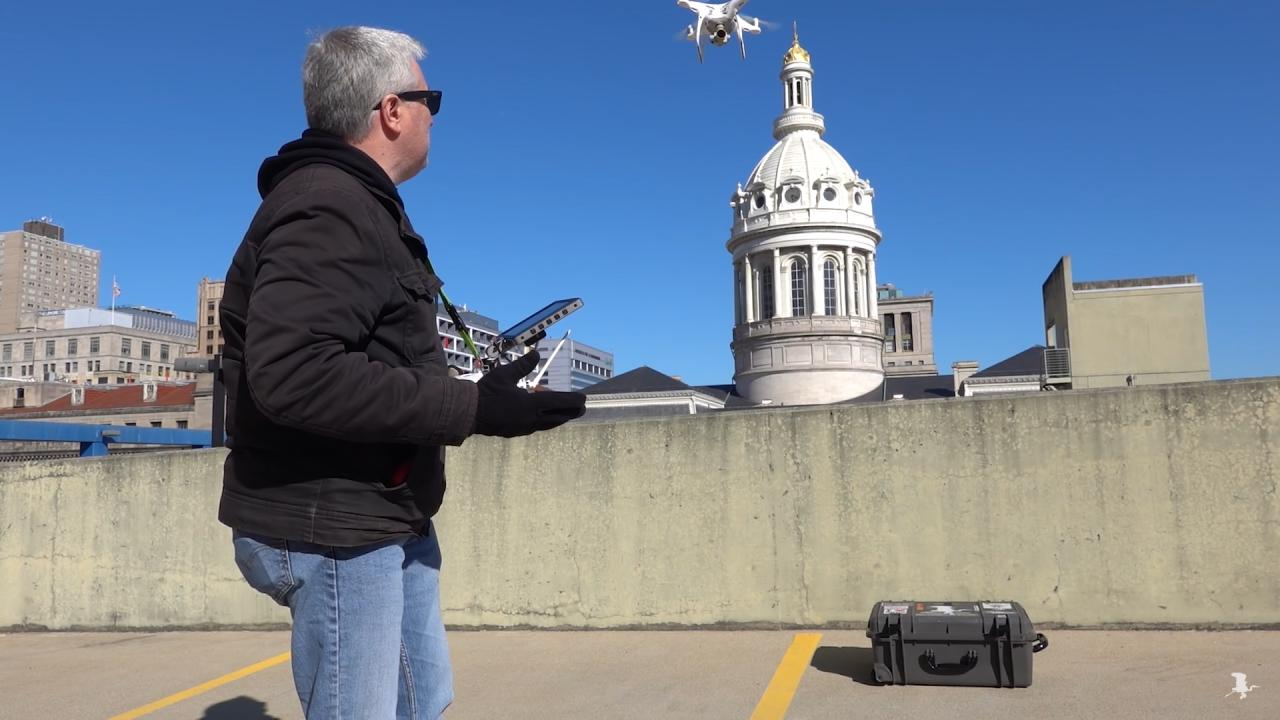Drone: (665, 0, 785, 69)
